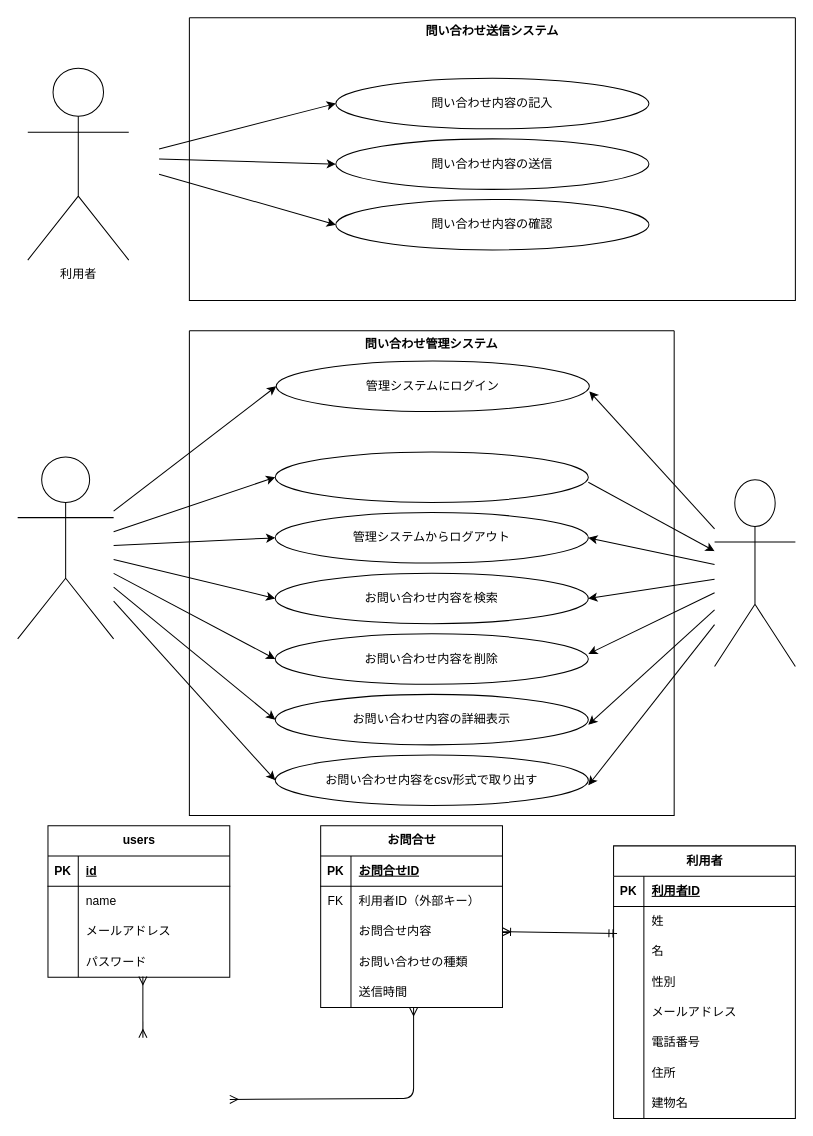
Image size: 813x1136. Some labels were removed from this diagram. Here are the shapes that lost their labels. From the top down, the centre of each, then its label:
pixel 431 476: 新規ユーザーの作成・登録
pixel 65 547: 管理者
pixel 754 573: 新規管理者
